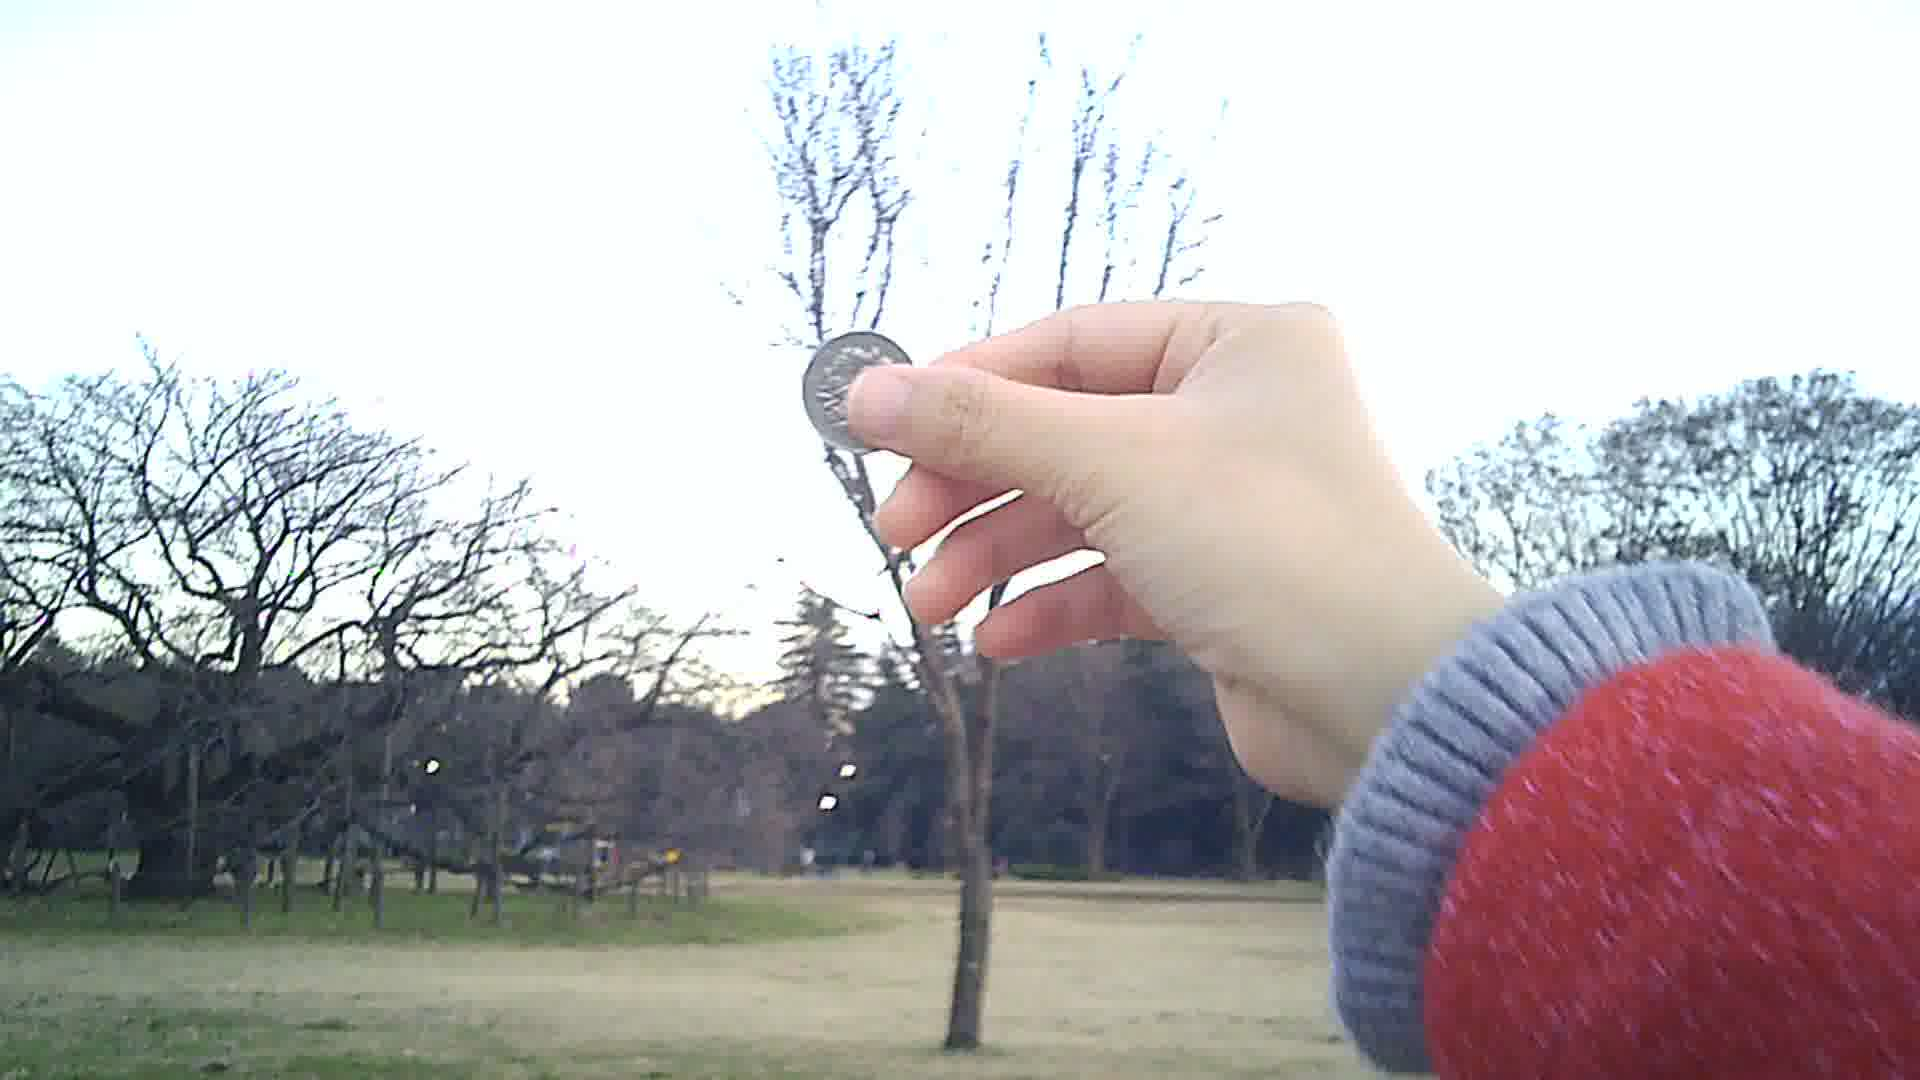100 Yen: (796, 324, 924, 463)
